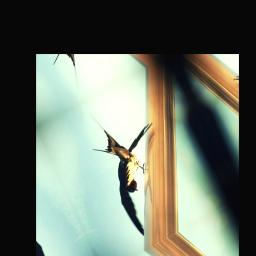Swallow: (77, 89, 194, 244)
